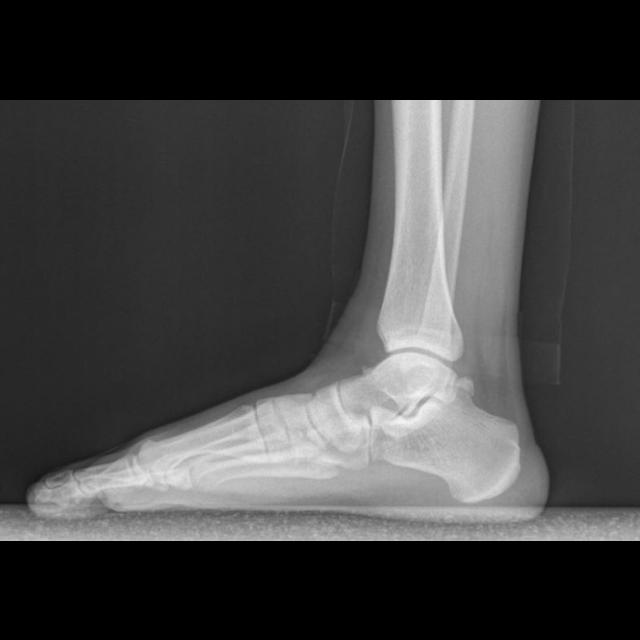a: (369, 376, 520, 503)
b: (307, 381, 362, 450)
c: (136, 405, 261, 480)
